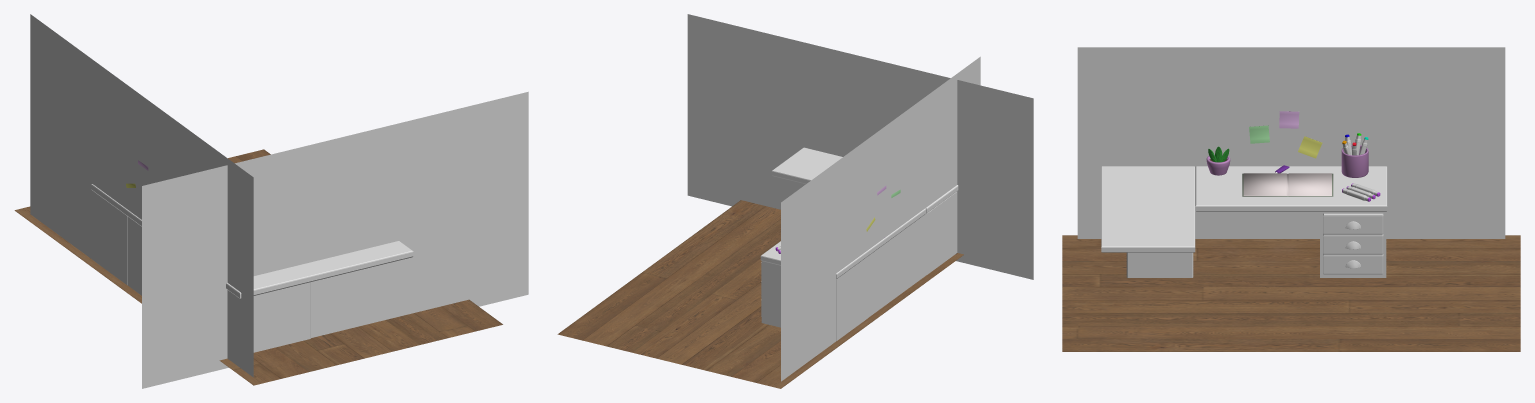
Rendered from SeriousGameEnvironmentExport.fbx.
3 views of the same model, side by side, from view 1: azimuth 30°, elevation 25°; view 2: azimuth 150°, elevation 25°; view 3: azimuth 270°, elevation 25° (orthographic). The views are drawn at different scales.
Visible parts, largest first — view 1: Wall2, Wall1, Floor, TableBox, TableSurface2, TableDrawerBox; view 2: Wall2, Wall1, Floor, TableDrawerBox, TableBox, TableSurface2, TableSurface; view 3: Wall1, Floor, TableSurface2, TableSurface, Book, TableBox, Drawer, Drawer.001, Drawer.002, TableDrawerBox, MarkerCup.
Part boxes in pixels (box(x1,y1,x2,y2)): Wall2: box(142, 91, 528, 388); Wall1: box(30, 14, 253, 377); Floor: box(14, 149, 502, 385); TableBox: box(227, 282, 310, 358); TableSurface2: box(226, 241, 413, 299); TableDrawerBox: box(92, 191, 127, 284); Wall2: box(687, 14, 1033, 279); Wall1: box(781, 56, 980, 381); Floor: box(557, 200, 963, 388); TableDrawerBox: box(761, 257, 867, 340); TableBox: box(927, 191, 957, 274); TableSurface2: box(771, 147, 958, 213); TableSurface: box(760, 208, 926, 278); Wall1: box(1077, 47, 1505, 238); Floor: box(1062, 235, 1520, 351); TableSurface2: box(1101, 166, 1195, 252); TableSurface: box(1195, 166, 1387, 211); Book: box(1242, 173, 1333, 196); TableBox: box(1126, 252, 1193, 277); Drawer: box(1323, 213, 1383, 234); Drawer.001: box(1323, 234, 1383, 254); Drawer.002: box(1323, 254, 1383, 274); TableDrawerBox: box(1320, 211, 1386, 277); MarkerCup: box(1341, 145, 1368, 177).
Bounding box in the file's own units: 3447 × 1788 × 3699.
